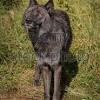Lobo: (13, 1, 79, 99)
